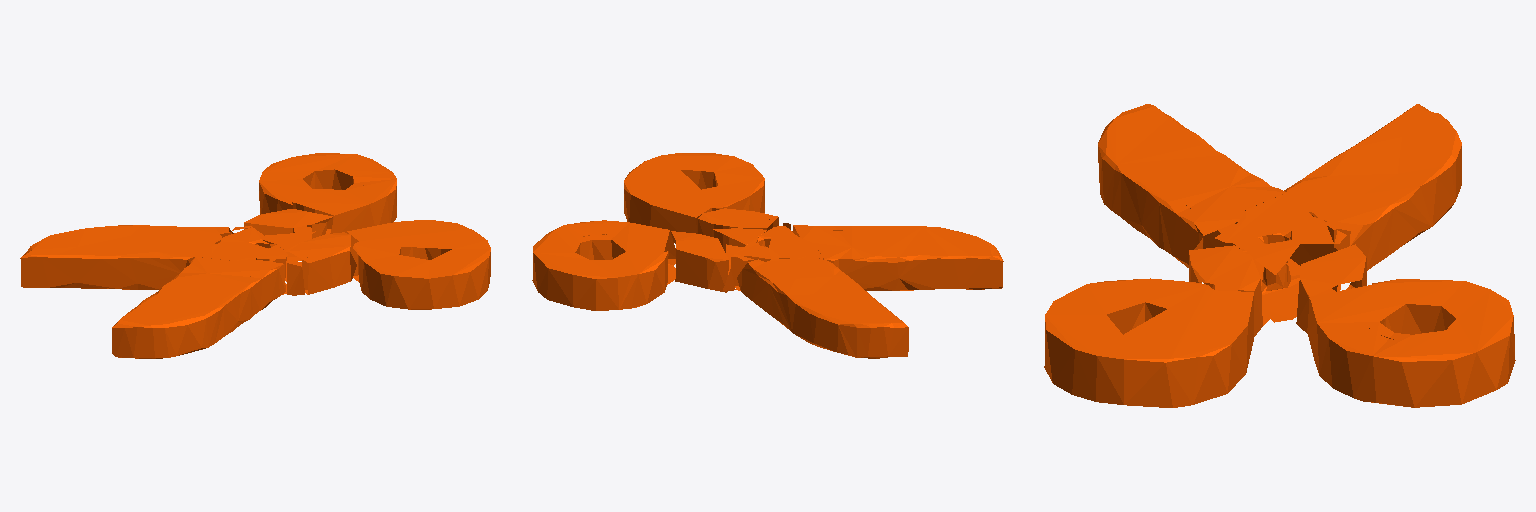
robot.urdf — Scissors_10513:
<?xml version="1.0" ?>
<robot name="Scissors_10513">
   <material name="obj_color">
      <color rgba="1.0 0.423529411765 0.0392156862745 1.0"/>
   </material>
   <link name="top">
      <inertial>
         <origin rpy="0.001494890754887137 0.003856387381049951 0.005221871521757578" xyz="0.08124551755047971 0.0001829471761732045 -6.272036299952348e-05"/>
         <mass value="0.9068886315840093"/>
         <inertia ixx="0.003856323388278242" ixy="-1.233110588530269e-05" ixz="7.382404508523576e-07" iyy="0.001494955147829909" iyz="6.965762649644009e-08" izz="0.005221871121586514"/>
      </inertial>
      <visual>
         <origin rpy="0 0 0" xyz="0 0 0"/>
         <geometry>
            <mesh filename="top_watertight_tiny.stl" scale="1 1 1"/>
         </geometry>
         <material name="obj_color"/>
      </visual>
      <collision>
         <origin rpy="0 0 0" xyz="0 0 0"/>
         <geometry>
            <mesh filename="top_watertight_tiny.obj" scale="1 1 1"/>
         </geometry>
      </collision>
   </link>
   <link name="bottom">
      <inertial>
         <origin rpy="0.002114342665152997 0.002350557572385369 0.004341323208988777" xyz="-0.1010261346639159 -0.0002189721871993879 -9.47693338580769e-05"/>
         <mass value="0.8674313574914879"/>
         <inertia ixx="0.002115944588469033" ixy="1.937165580462365e-05" ixz="2.327199534403087e-06" iyy="0.002348958086431935" iyz="-1.059204173171905e-07" izz="0.004341320771626174"/>
      </inertial>
      <visual>
         <origin rpy="0 0 0" xyz="0 0 0"/>
         <geometry>
            <mesh filename="bottom_watertight_tiny.stl" scale="1 1 1"/>
         </geometry>
         <material name="obj_color"/>
      </visual>
      <collision>
         <origin rpy="0 0 0" xyz="0 0 0"/>
         <geometry>
            <mesh filename="bottom_watertight_tiny.obj" scale="1 1 1"/>
         </geometry>
      </collision>
   </link>
   <link name="world"/>
   <joint name="world_to_base" type="fixed">
      <origin xyz="0 0 0"/>
      <axis xyz="0 0 0"/>
      <parent link="world"/>
      <child link="bottom"/>
   </joint>
   <joint name="rotation" type="revolute">
      <origin xyz="0 0 0"/>
      <axis xyz="0 0 -1"/>
      <parent link="bottom"/>
      <child link="top"/>
      <dynamics damping="1.0" friction="1.0"/>
      <limit effort="0.1" velocity="0.1" lower="0" upper="0.001"/>
   </joint>
</robot>

--- Facts derived from the render (not from the file) ---
3 views of the same robot in one strip: view 1: azimuth 30°, elevation 25°; view 2: azimuth 150°, elevation 25°; view 3: azimuth 270°, elevation 25° (orthographic).
Robot: Scissors_10513 — 3 links, 2 joints (1 revolute, 1 fixed); root link world; default pose: all joints at 0.
Links seen in each view (by area): view 1: top, bottom; view 2: top, bottom; view 3: top, bottom.
Boxes of the visible links, left/top/right/bottom form: top: left=244, top=153, right=490, bottom=309; bottom: left=20, top=225, right=304, bottom=358; top: left=532, top=153, right=778, bottom=310; bottom: left=723, top=223, right=1003, bottom=358; top: left=1044, top=244, right=1515, bottom=407; bottom: left=1098, top=104, right=1461, bottom=295.
Bounding box of the posed robot: 0.3375 × 0.2574 × 0.03 m (x, y, z).
Meshes: 2 distinct files referenced, 2 mesh visuals loaded (2 binary STL).